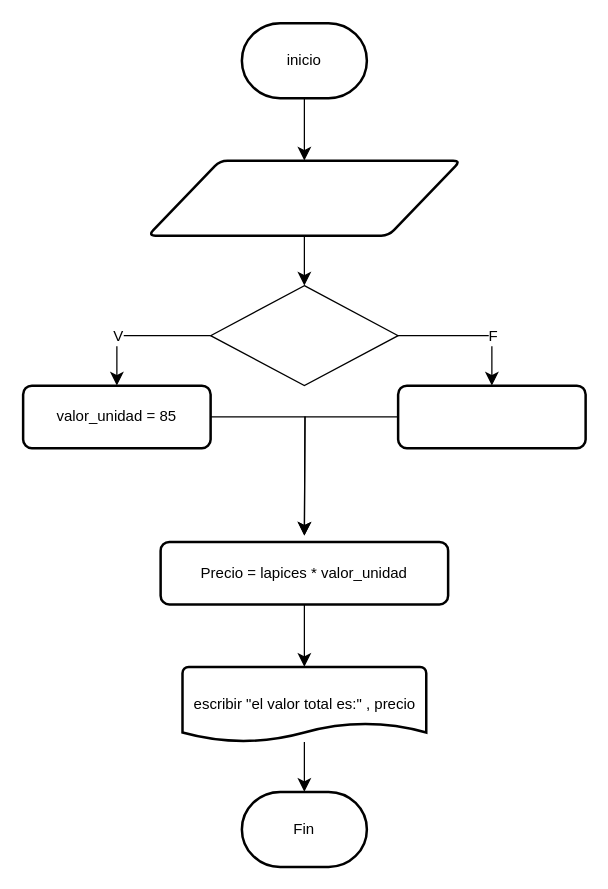
This 608x889 diagram has some shape labels left out. The shapes that lost their labels are listed below. From the top down, each one's centre as x and y in pixels, then its label:
point (303, 197): lapices
point (303, 335): lapices >= 1000
point (491, 416): valor_unidad = 90
